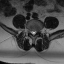CCS_normal: (32, 29, 34, 38)
LFS_stenosis: (36, 28, 38, 34)
LLS_normal: (34, 29, 36, 35)
RFS_normal: (28, 27, 30, 34)
RLS_normal: (30, 28, 32, 36)
